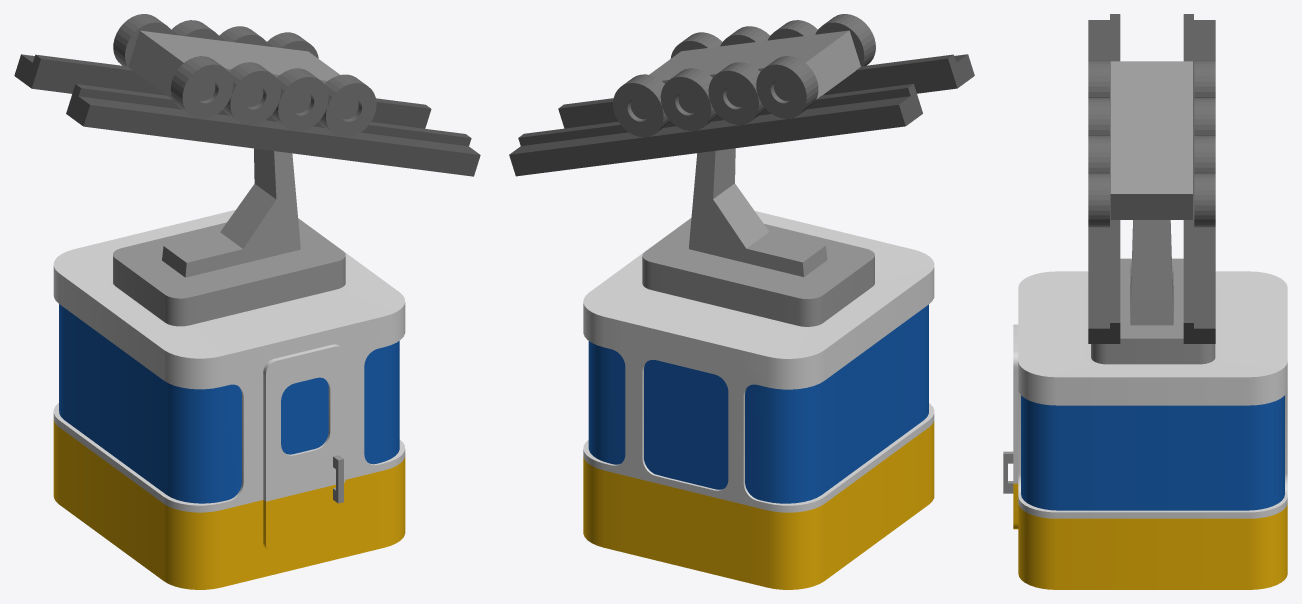
The model's file is aerial_tramway.glb.
The picture shows the model from 3 angles, left to right: view 1: azimuth 30°, elevation 25°; view 2: azimuth 150°, elevation 25°; view 3: azimuth 270°, elevation 25°; orthographic projection. The views are drawn at different scales.
Visible parts, largest first — view 1: Cube.866; view 2: Cube.866; view 3: Cube.866.
Boxes of the visible parts, x1=… form: Cube.866: x1=14, y1=14, x2=480, y2=589; Cube.866: x1=509, y1=14, x2=974, y2=589; Cube.866: x1=1003, y1=14, x2=1287, y2=589.
Bounding box in the file's own units: 1.58 × 1.85 × 1.06.
1 material, 1 textured.
